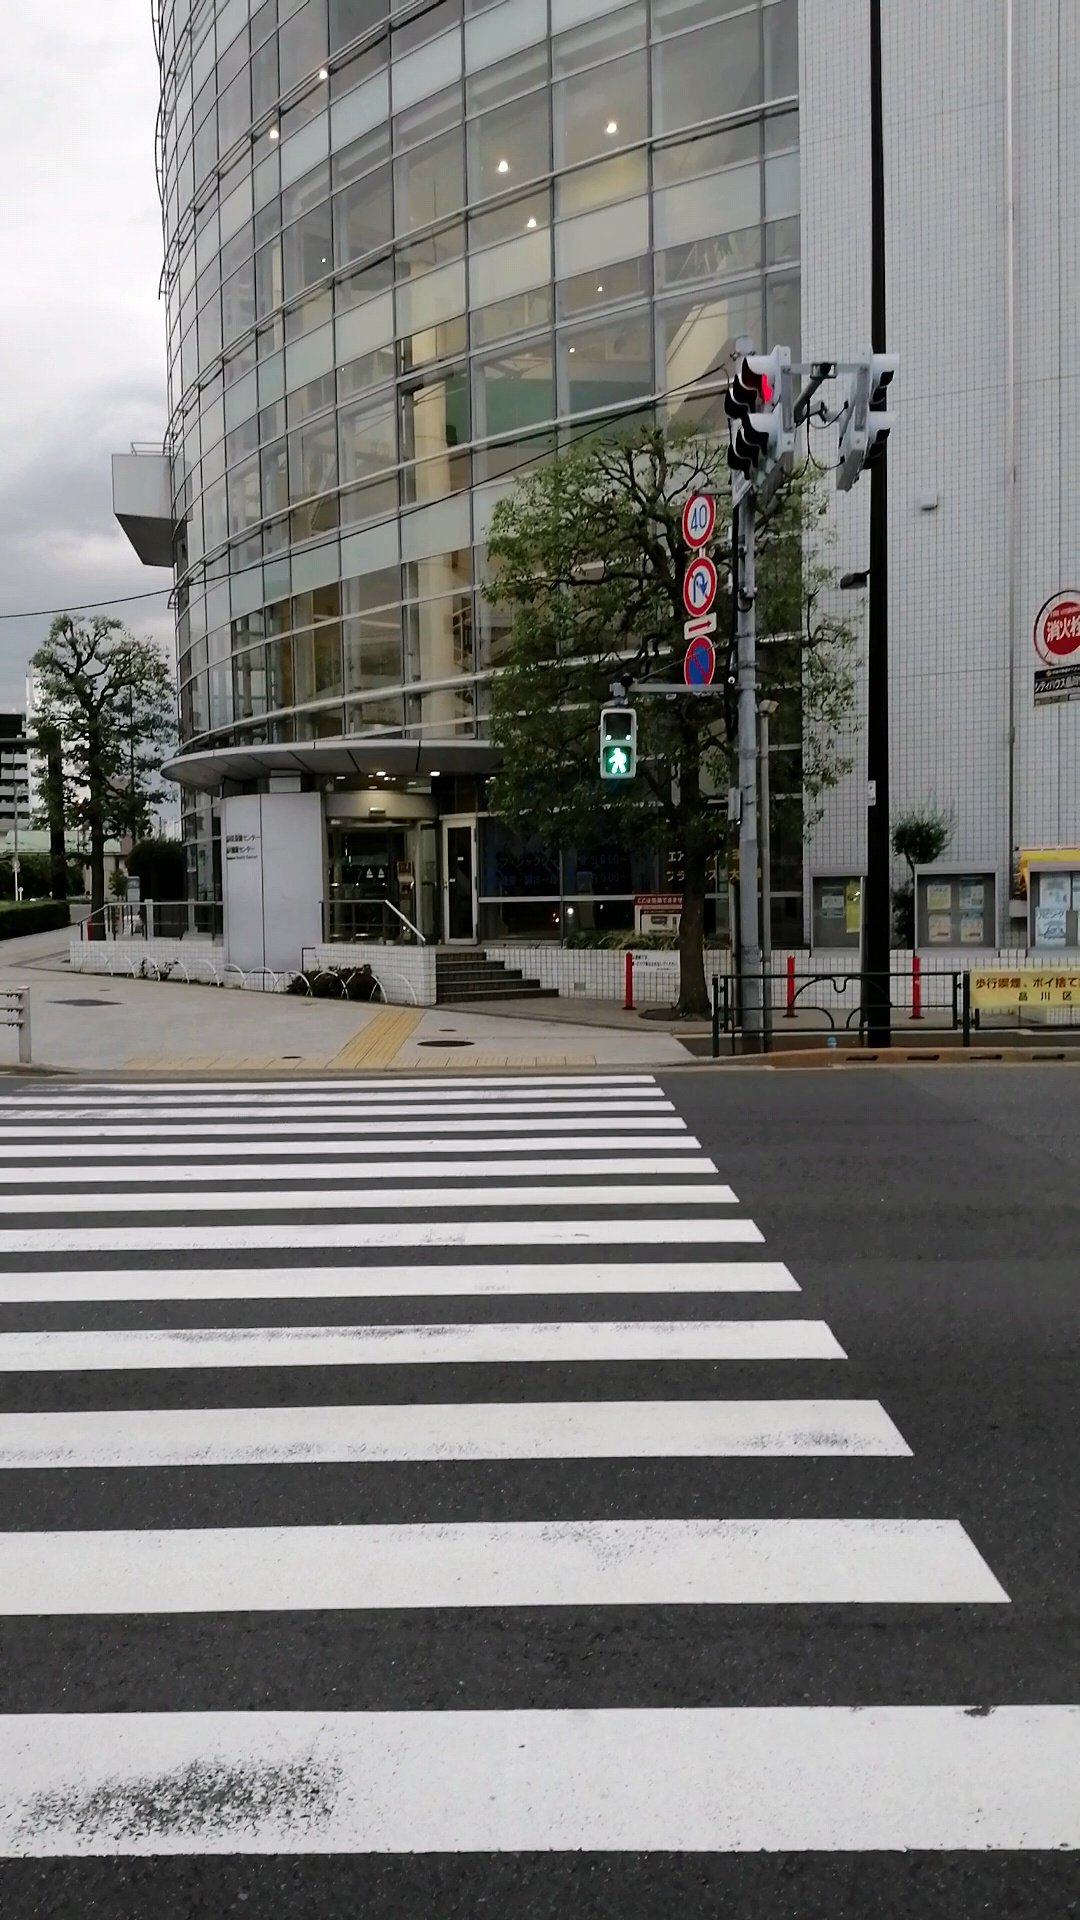green: (597, 705, 634, 779)
